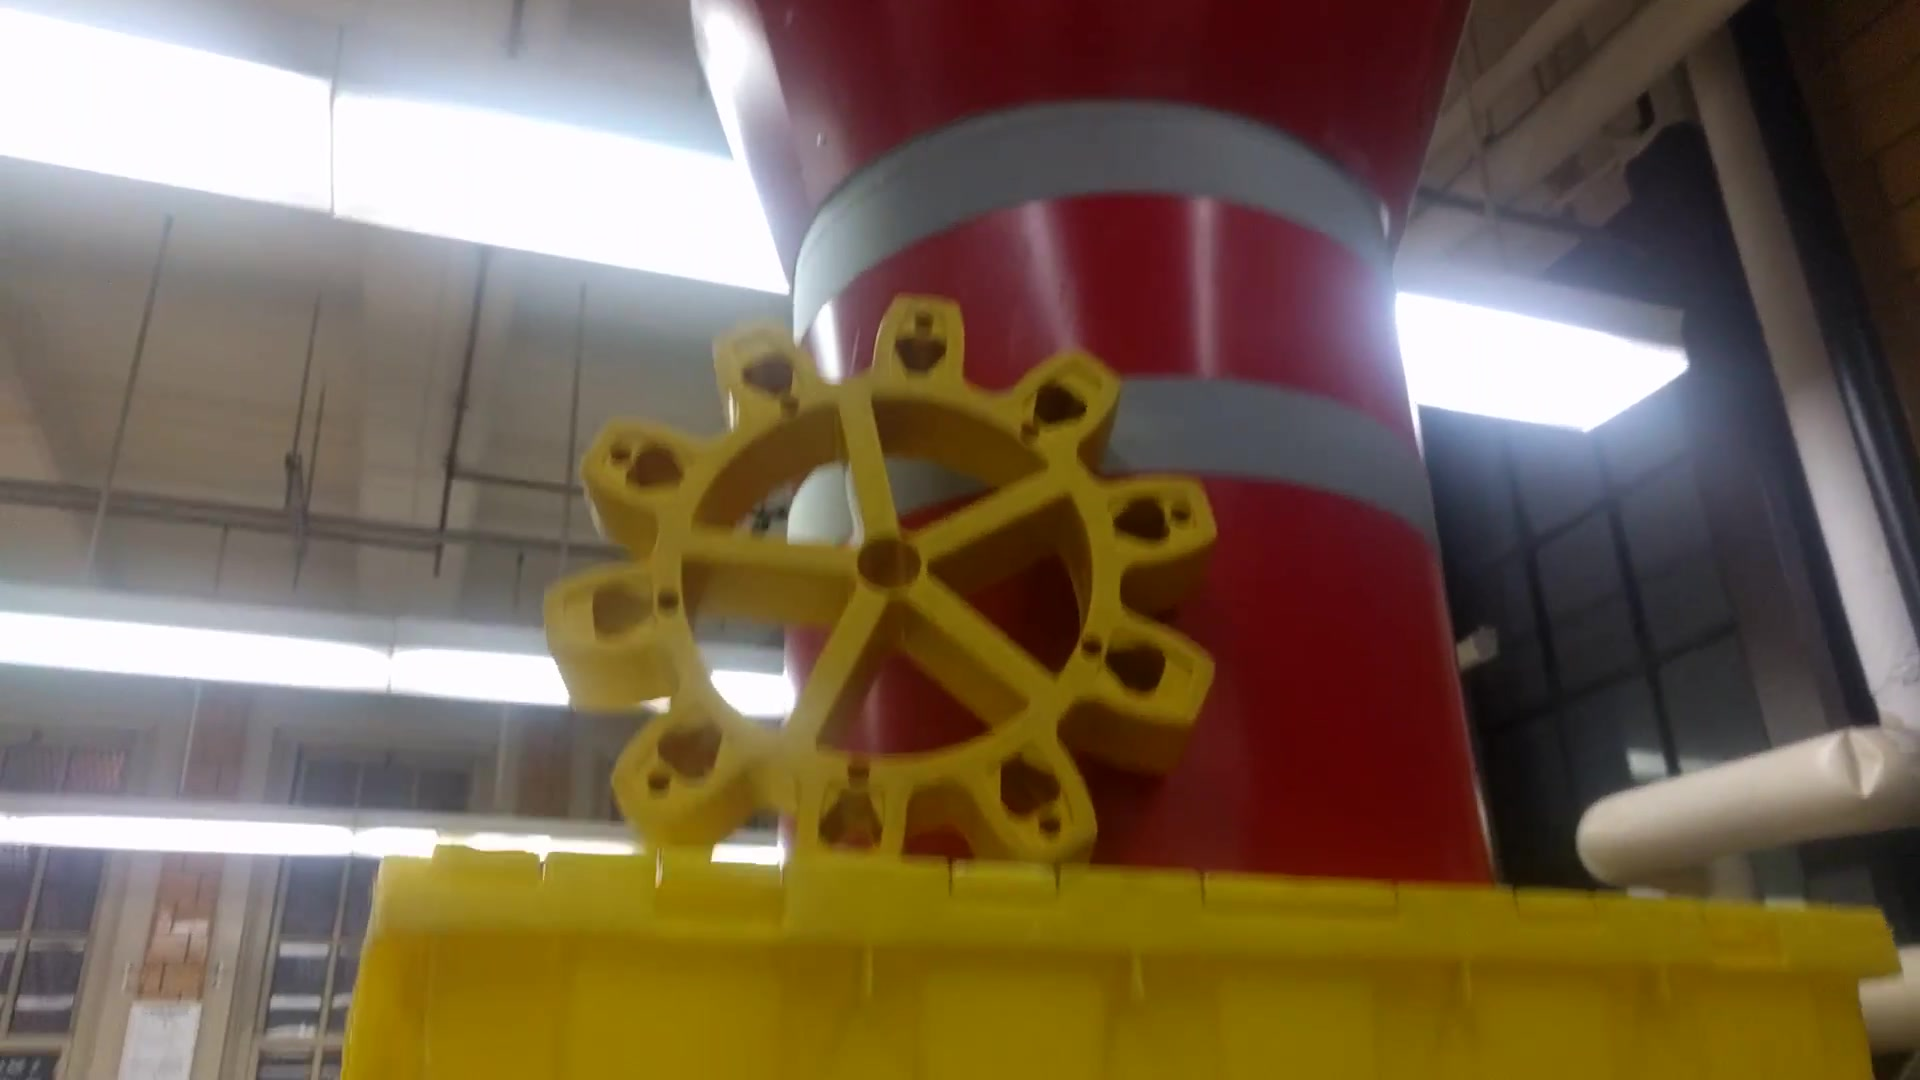gear: (546, 287, 1218, 885)
